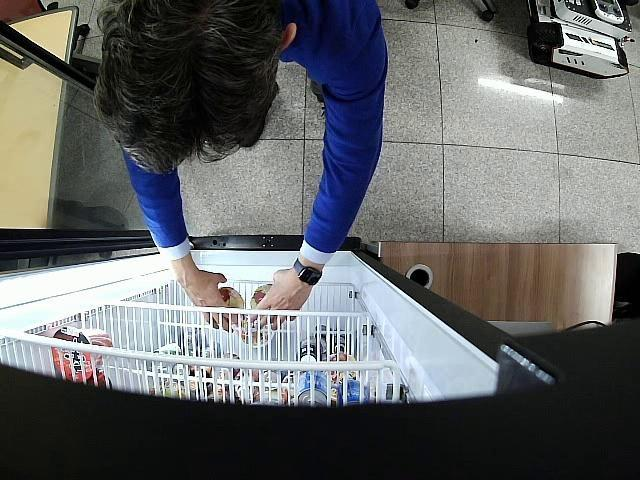04_chapagetti_S: (214, 286, 244, 329), (248, 284, 274, 324)
